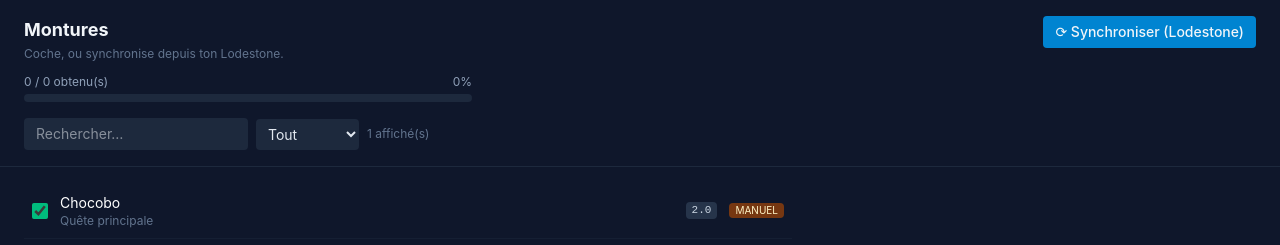
Test: CollectionsView › drops a toggled item that no longer matches the status filter
Expected: the text "Chocobo" is shown, [60, 194, 120, 210]
Select "Obtenu" in the dropdown at [308, 134], box [256, 118, 359, 150]
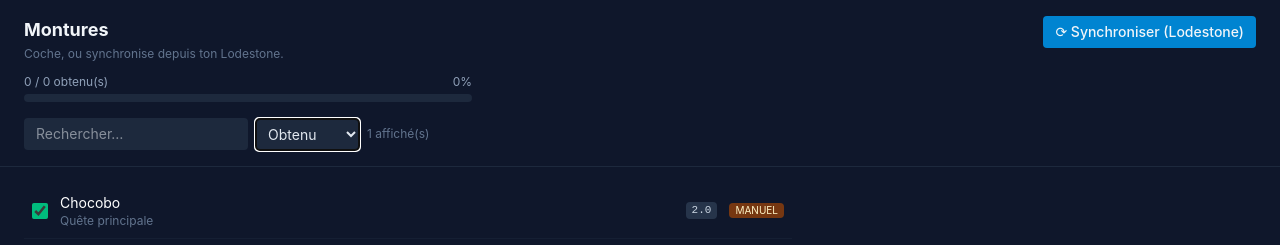
Expected: the text "Chocobo" is shown, [60, 194, 120, 210]
Click the checkbox.
click(40, 210)  # box [32, 202, 48, 218]
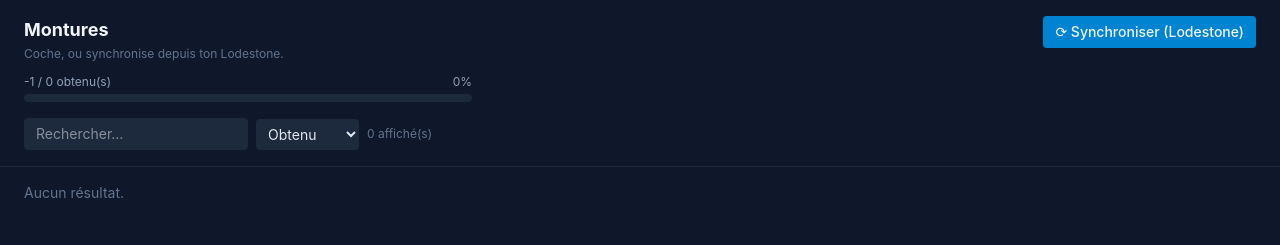
Expected: the button "Chocobo" is gone
